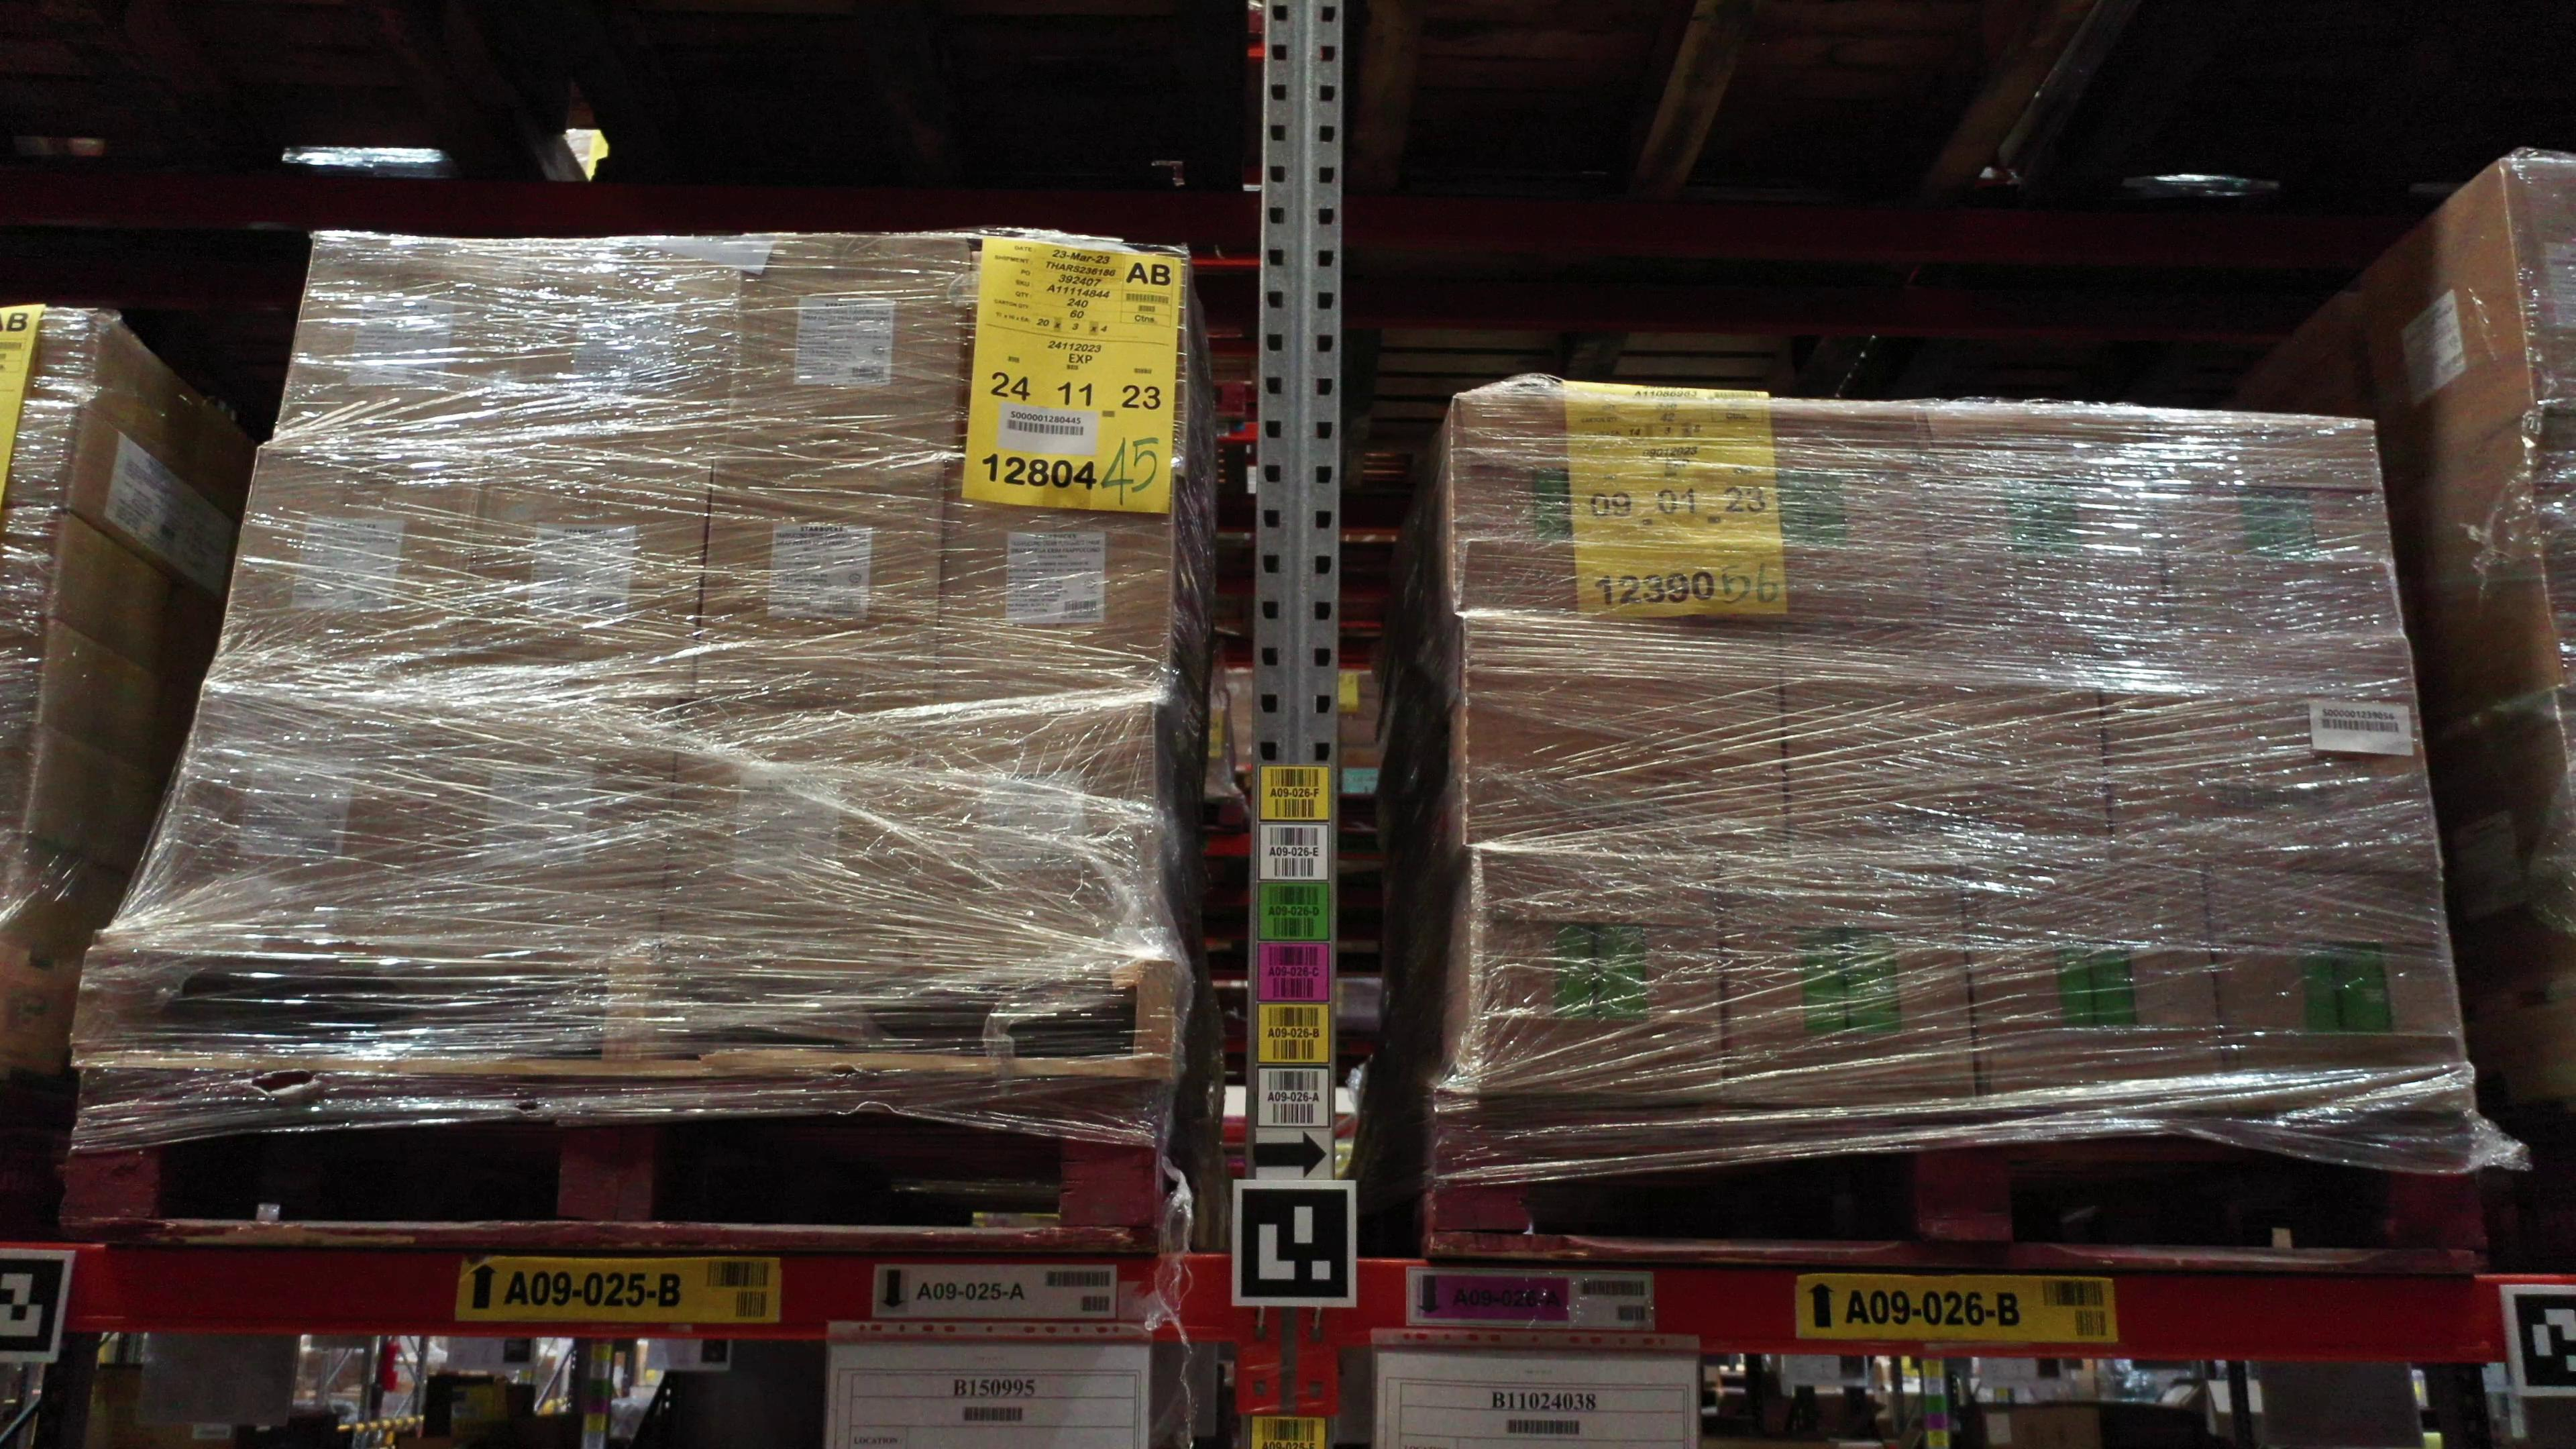-: (1460, 612, 1794, 863), (2098, 639, 2443, 874), (1780, 630, 2111, 862), (152, 685, 435, 941), (1714, 847, 1983, 1109), (660, 704, 925, 964), (414, 701, 681, 959), (212, 446, 481, 701), (455, 451, 715, 713), (686, 458, 948, 713), (906, 702, 1155, 968), (1964, 856, 2229, 1104), (1472, 840, 1721, 1102), (2146, 414, 2413, 658), (2204, 863, 2472, 1108), (1681, 398, 1937, 639), (938, 458, 1177, 713), (1918, 405, 2171, 644), (720, 230, 975, 464), (483, 237, 745, 464), (1449, 396, 1693, 630), (271, 232, 518, 456), (964, 228, 1187, 474), (0, 398, 83, 515), (0, 311, 101, 400), (0, 508, 58, 619), (0, 625, 50, 727), (0, 727, 42, 833)
